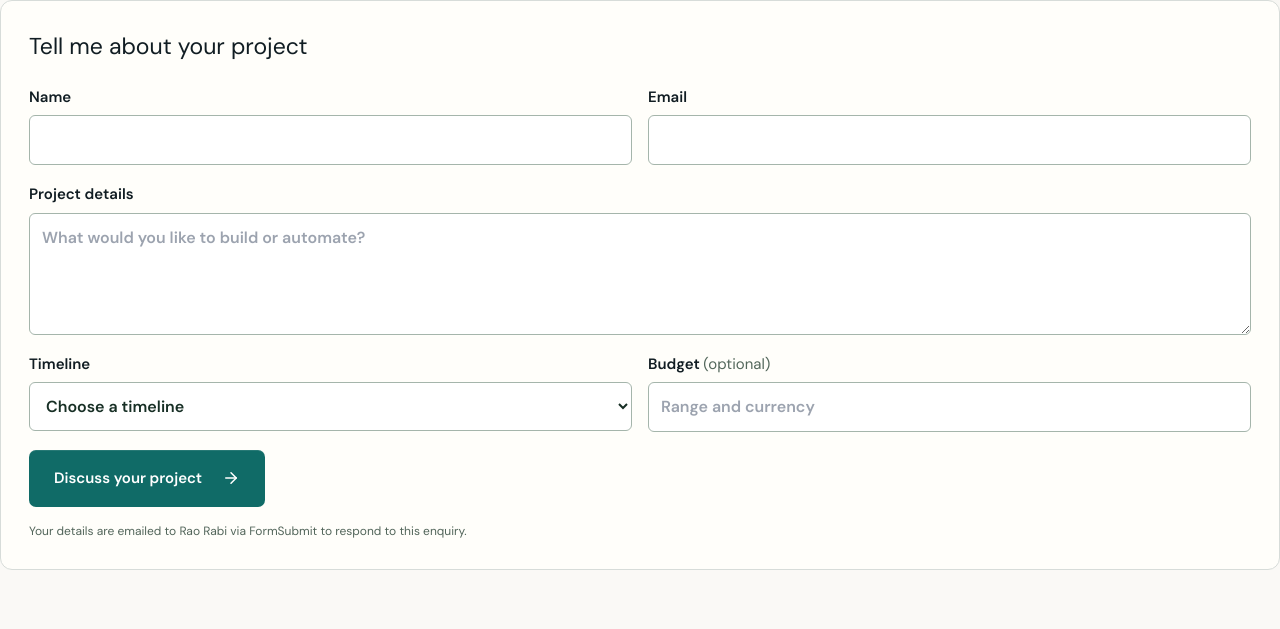
Scenario: Project enquiry form › submits without an optional budget and confirms success
Type "Example Founder" into the field labelled "Name".
click(330, 140); type("Example Founder")  # box [29,115,632,165]
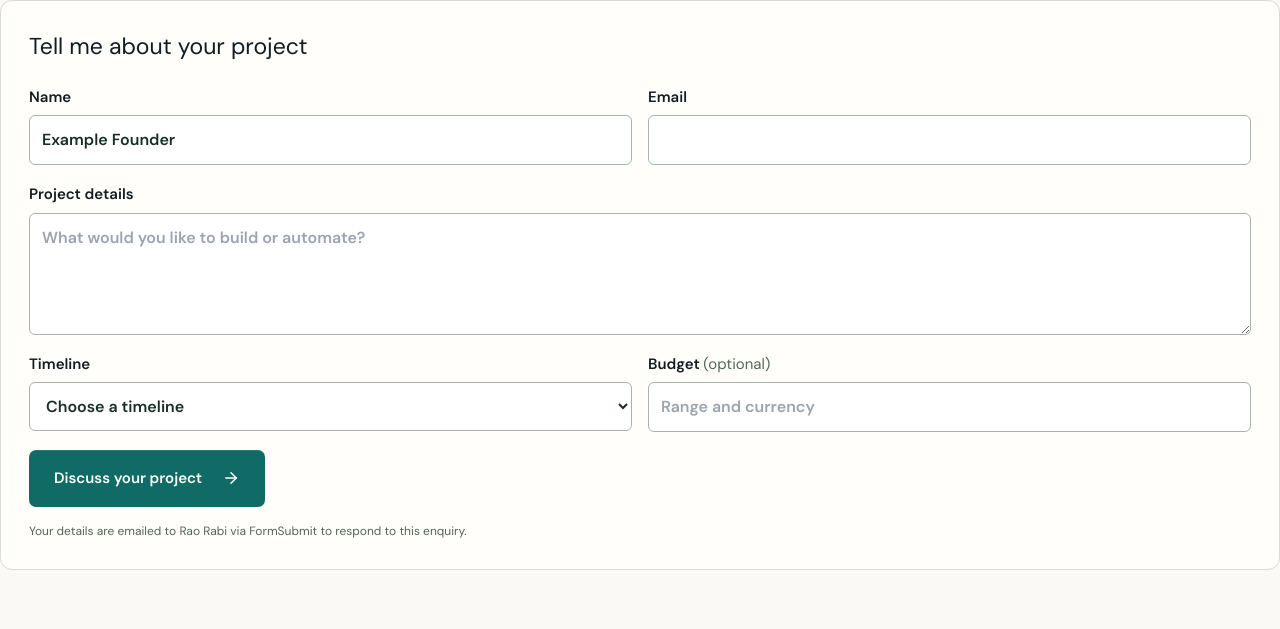
Type "founder@example.com" into the field labelled "Email".
click(950, 140); type("founder@example.com")  # box [648,115,1251,165]
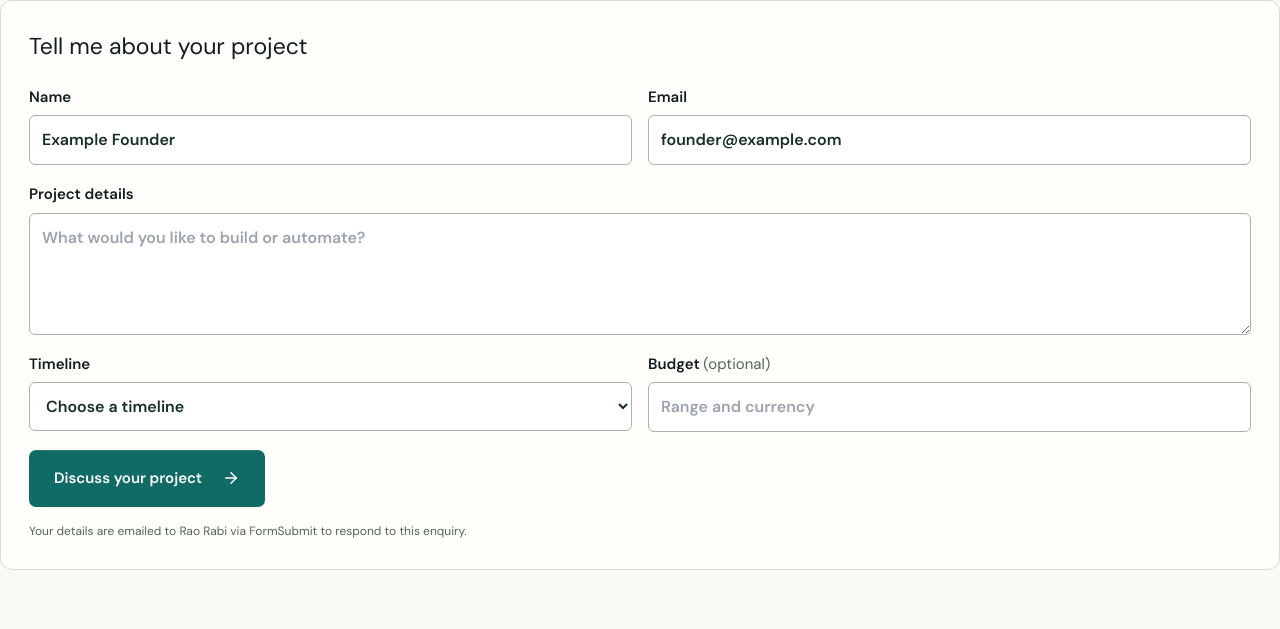
Type "We need an internal scheduling tool for our team." into the text box labelled "Project details".
click(640, 274); type("We need an internal scheduling tool for our team.")  # box [29,212,1251,334]
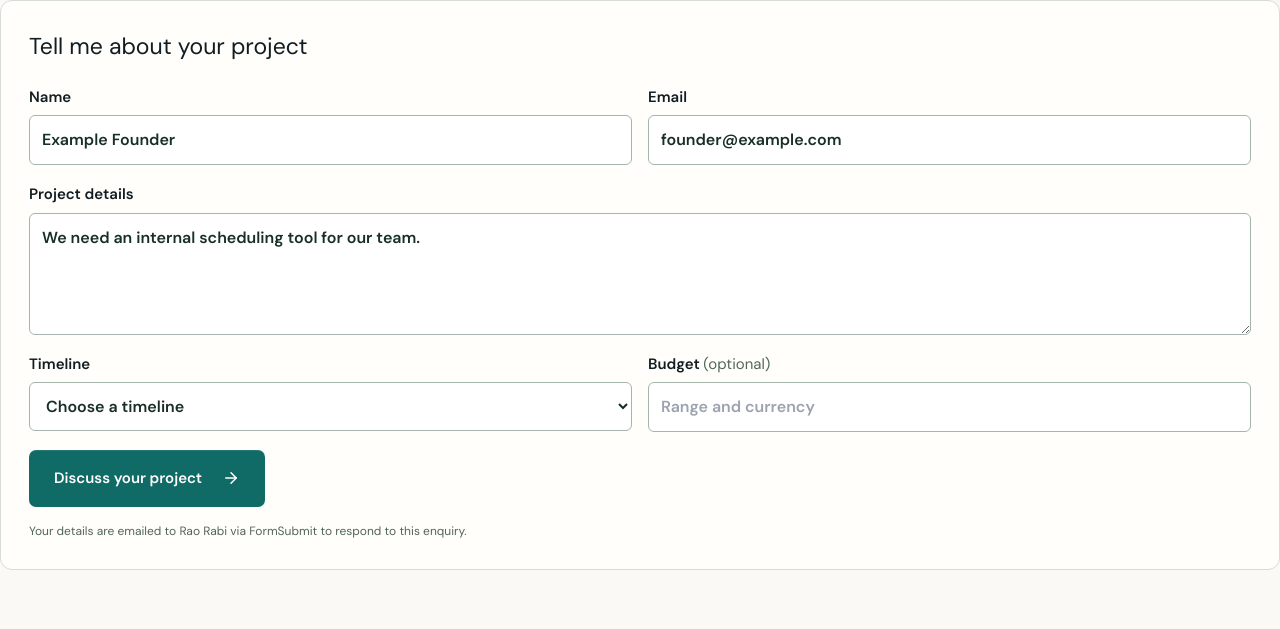
Select "Within 1–3 months" in the dropdown labelled "Timeline" at (330, 406), box [29,382,632,431]
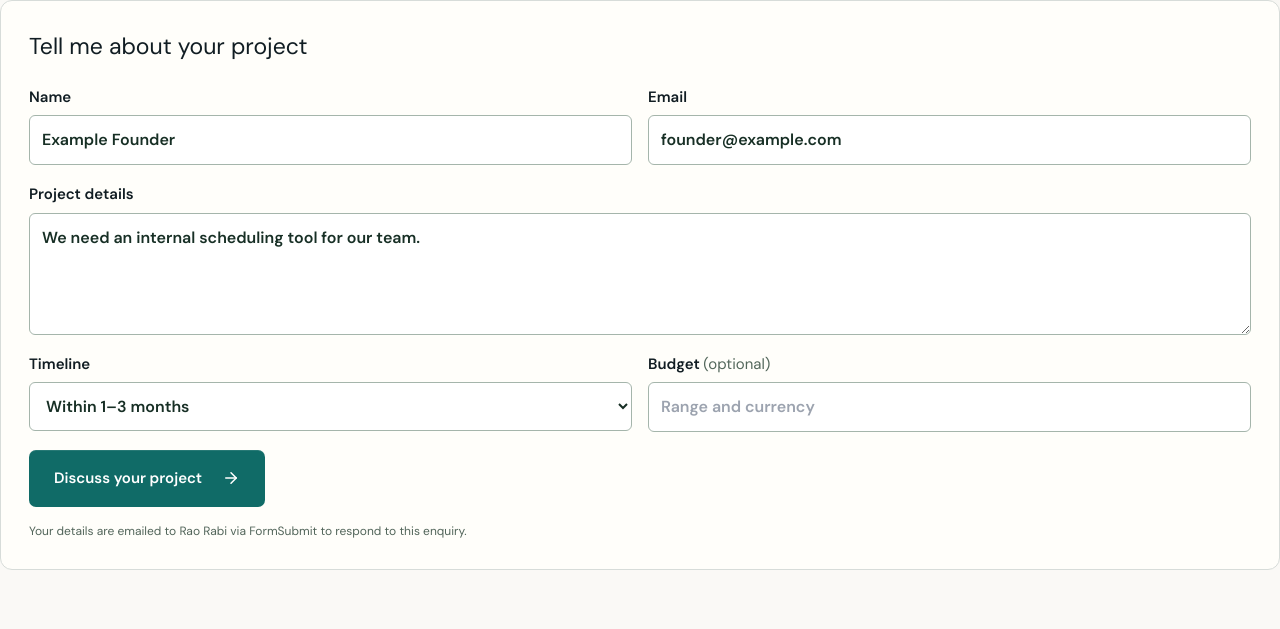
Click the button "Discuss your project".
click(147, 478)  # box [29,450,265,506]
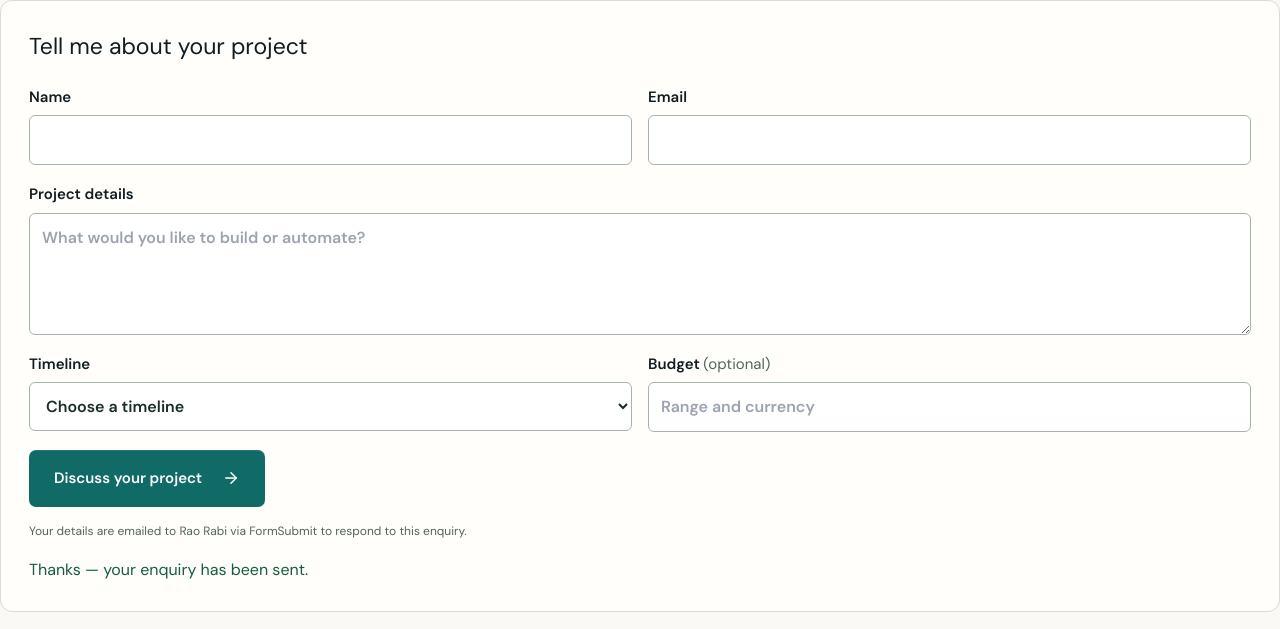
expect the message shows "your enquiry has been sent": met, box [29,559,308,580]
expect the text box labelled "Project details" is empty: met, box [29,212,1251,334]
